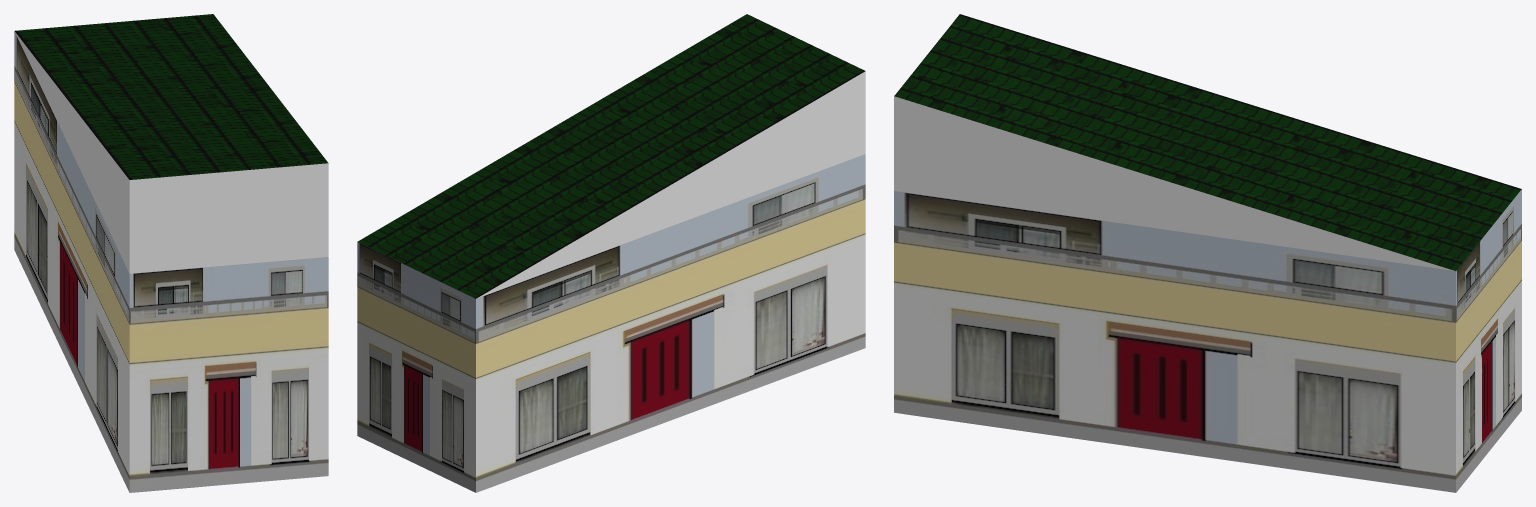
3 views of the same model, side by side, from view 1: azimuth 30°, elevation 25°; view 2: azimuth 150°, elevation 25°; view 3: azimuth 270°, elevation 25° (orthographic). The views are drawn at different scales.
Parts seen in each view (by area): view 1: CityEngineMaterial_15_m, CityEngineMaterial_13_m, CityEngineMaterial_3_m; view 2: CityEngineMaterial_15_m, CityEngineMaterial_13_m, CityEngineMaterial_3_m; view 3: CityEngineMaterial_15_m, CityEngineMaterial_13_m, CityEngineMaterial_3_m.
Part boxes in pixels (bbox=[...]): CityEngineMaterial_15_m: bbox=[14, 31, 328, 492]; CityEngineMaterial_13_m: bbox=[15, 14, 328, 179]; CityEngineMaterial_3_m: bbox=[14, 31, 328, 273]; CityEngineMaterial_15_m: bbox=[357, 154, 865, 492]; CityEngineMaterial_13_m: bbox=[357, 14, 865, 298]; CityEngineMaterial_3_m: bbox=[476, 71, 865, 298]; CityEngineMaterial_15_m: bbox=[894, 189, 1521, 492]; CityEngineMaterial_13_m: bbox=[894, 14, 1521, 270]; CityEngineMaterial_3_m: bbox=[894, 96, 1454, 270].
Size of the model in its own units: 12.41 by 11.27 by 20.26.
